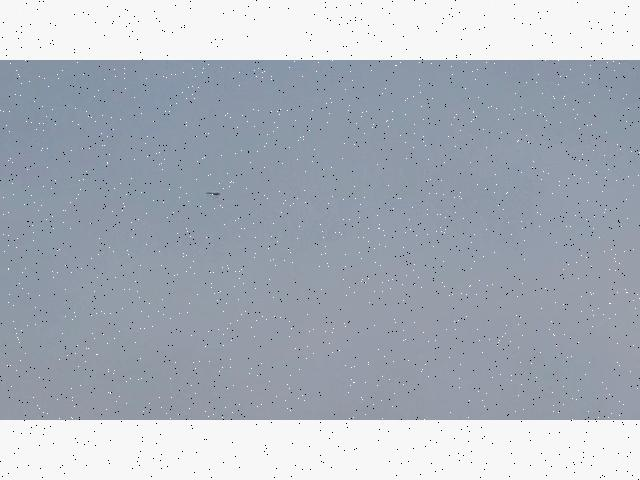Anti-Drone: (205, 190, 223, 200)
